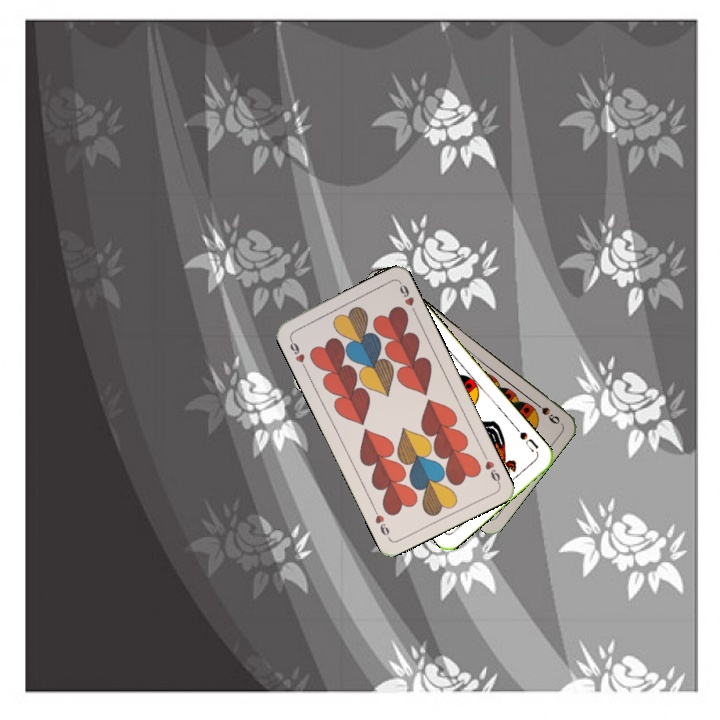H9: (479, 449, 503, 487), (285, 334, 309, 372)
S9: (529, 397, 563, 427)
SU: (511, 422, 541, 456)
